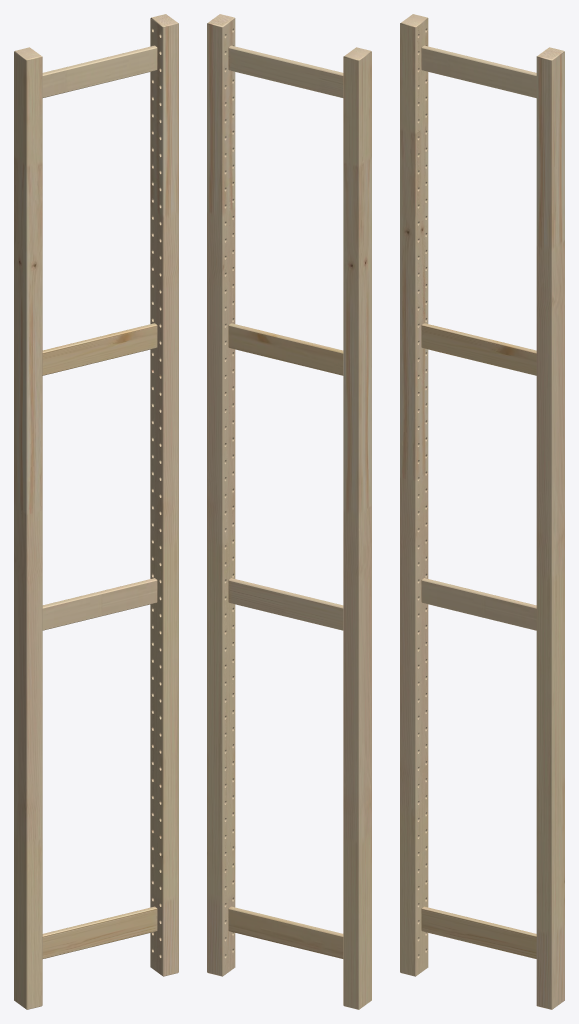
Rendered from 50484651-mini.glb.
The picture shows the model from 3 angles, left to right: view 1: azimuth 30°, elevation 25°; view 2: azimuth 150°, elevation 25°; view 3: azimuth 330°, elevation 25°; orthographic projection.
Parts seen in each view (by area): view 1: 83756609; view 2: 83756609; view 3: 83756609.
Boxes of the visible parts, x1=… form: 83756609: x1=14, y1=14, x2=178, y2=1009; 83756609: x1=207, y1=14, x2=371, y2=1009; 83756609: x1=400, y1=14, x2=564, y2=1009.
Size of the model in its own units: 0.3 by 1.78 by 0.044.
Materials: 1 (1 with a texture image).
